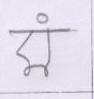anusvara: (36, 14, 49, 24)
